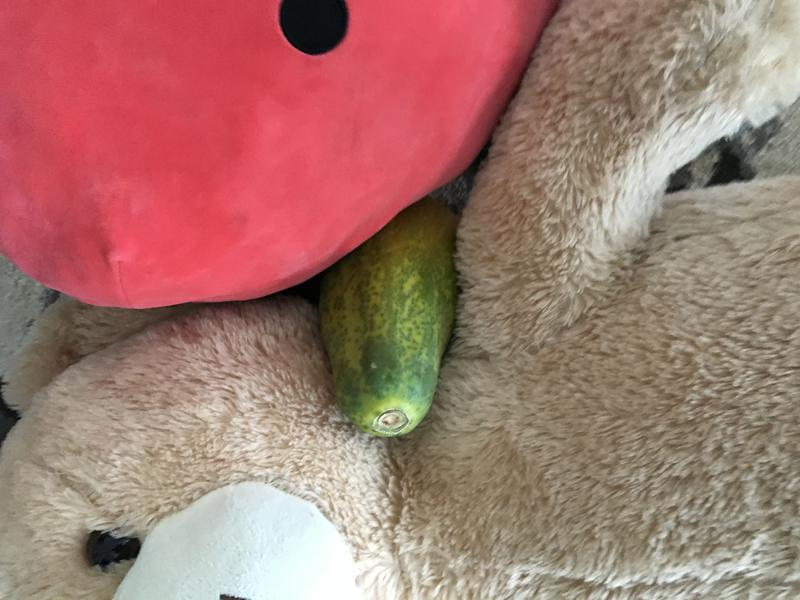papaya: (309, 192, 469, 449)
